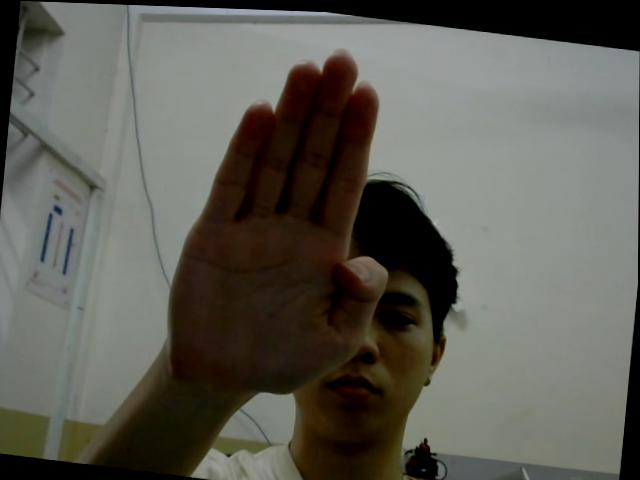B: (160, 28, 406, 405)
